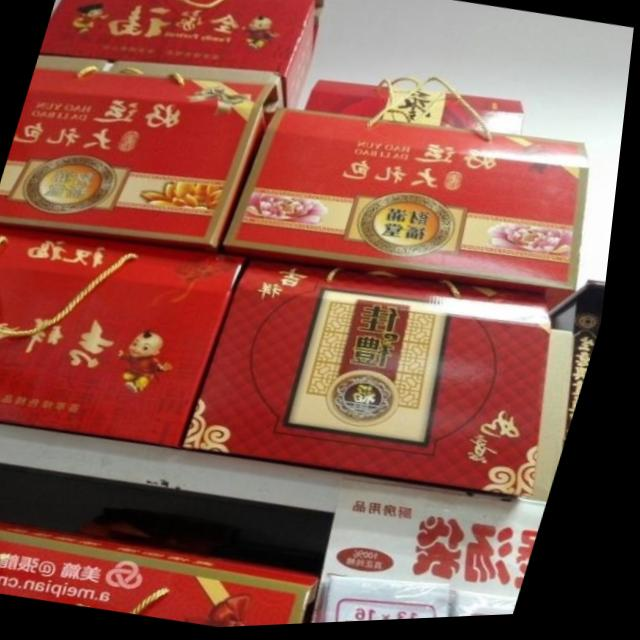box: (194, 260, 559, 506), (231, 110, 597, 317), (0, 226, 256, 452), (0, 68, 281, 254), (0, 518, 331, 630), (37, 0, 325, 111), (307, 81, 527, 140), (545, 335, 582, 507)
